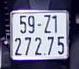1: (51, 15, 59, 34)
2: (14, 37, 23, 56), (34, 36, 43, 55)
5: (18, 15, 27, 35), (57, 36, 65, 55)
7: (24, 36, 32, 56), (47, 36, 55, 56)
9: (28, 14, 36, 33)
Z: (43, 14, 52, 34)
